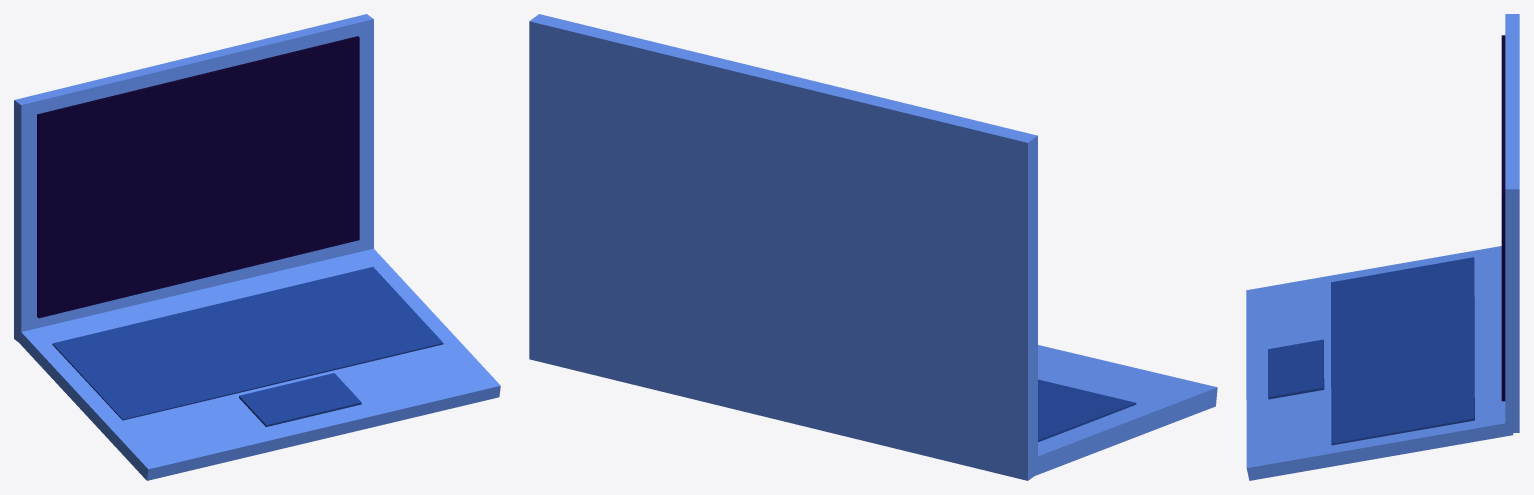
The model's file is laptop-blue.glb.
3 views of the same model, side by side, from view 1: azimuth 30°, elevation 25°; view 2: azimuth 150°, elevation 25°; view 3: azimuth 270°, elevation 25° (orthographic). The views are drawn at different scales.
Visible parts, largest first — view 1: Cube.002, Cube.001, Cube.003, Cube, Cube.004; view 2: Cube, Cube.001, Cube.003; view 3: Cube.003, Cube.001, Cube, Cube.004, Cube.002.
Part boxes in pixels (left/top/right/bottom): Cube.002: left=37, top=36, right=359, bottom=318; Cube.001: left=17, top=248, right=500, bottom=480; Cube.003: left=52, top=267, right=443, bottom=420; Cube: left=14, top=14, right=373, bottom=341; Cube.004: left=239, top=373, right=361, bottom=426; Cube: left=529, top=14, right=1037, bottom=480; Cube.001: left=1032, top=345, right=1217, bottom=476; Cube.003: left=1038, top=379, right=1136, bottom=442; Cube.003: left=1331, top=257, right=1474, bottom=445; Cube.001: left=1246, top=246, right=1513, bottom=480; Cube: left=1505, top=14, right=1519, bottom=432; Cube.004: left=1268, top=339, right=1324, bottom=399; Cube.002: left=1501, top=35, right=1505, bottom=401.
Size of the model in its own units: 1.73 by 1.34 by 1.14.
